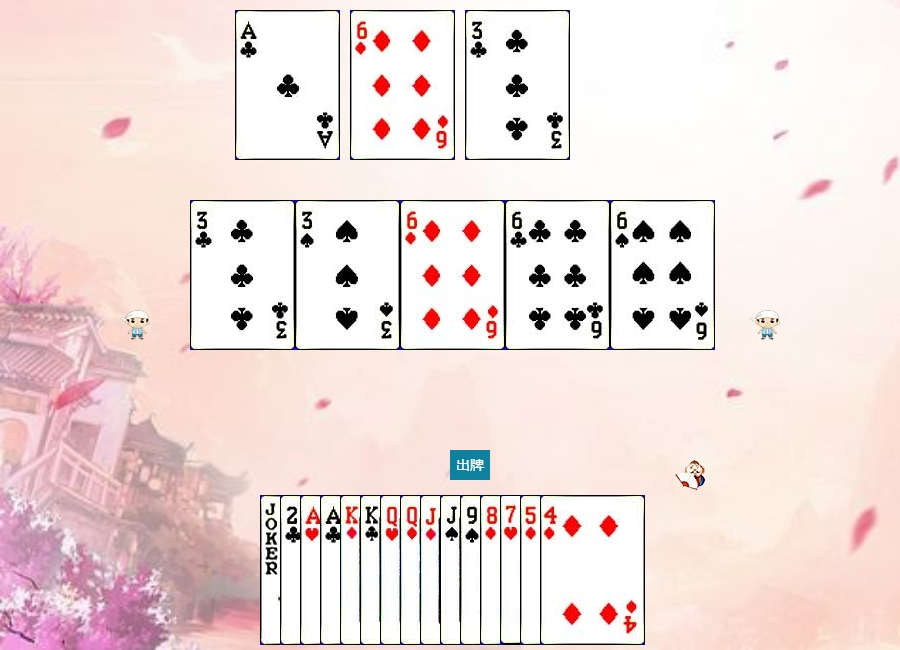11~1: (420, 495, 525, 645)
11~4: (440, 495, 545, 645)
12~1: (400, 495, 505, 645)
12~3: (380, 495, 485, 645)
13~1: (340, 495, 445, 645)
13~2: (360, 495, 465, 645)
14~2: (235, 10, 340, 160), (320, 495, 425, 645)
14~3: (300, 495, 405, 645)
15~2: (280, 495, 385, 645)
17~3: (260, 495, 365, 645)
3~2: (465, 10, 570, 160), (190, 200, 295, 350)
3~4: (295, 200, 400, 350)
4~1: (540, 495, 645, 645)
5~1: (520, 495, 625, 645)
6~1: (350, 10, 455, 160), (400, 200, 505, 350)
6~2: (505, 200, 610, 350)
6~4: (610, 200, 715, 350)
7~3: (500, 495, 605, 645)
8~1: (480, 495, 585, 645)
9~4: (460, 495, 565, 645)
